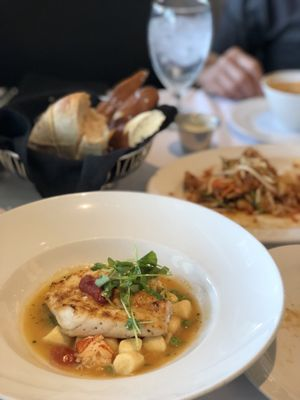pizza: (260, 69, 300, 134)
sushi: (1, 191, 285, 398), (260, 69, 300, 134)
